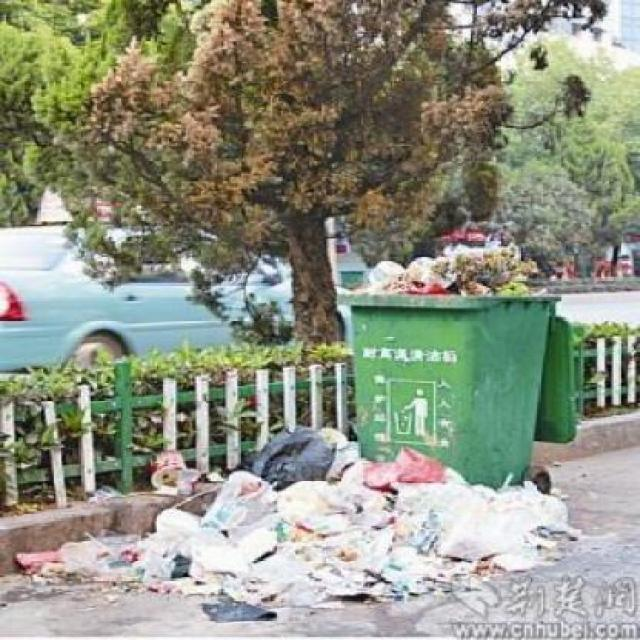garbage: (150, 414, 579, 608), (328, 229, 542, 310)
